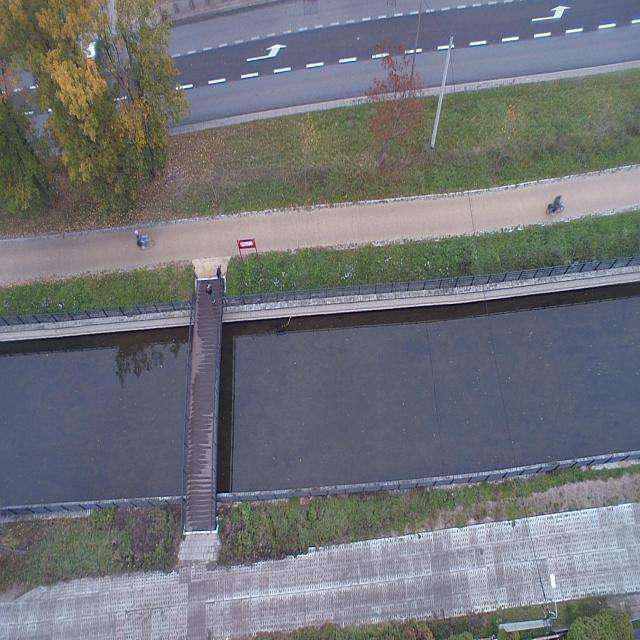p3rson: (206, 282, 216, 306), (552, 194, 562, 215), (135, 229, 145, 249), (216, 266, 224, 288)
